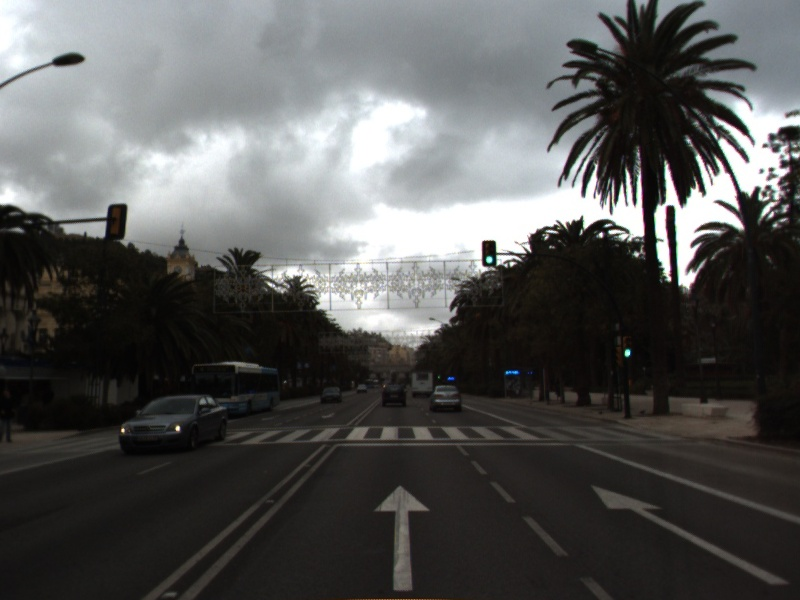STRAIGHT: (587, 481, 793, 588), (370, 482, 433, 593)
